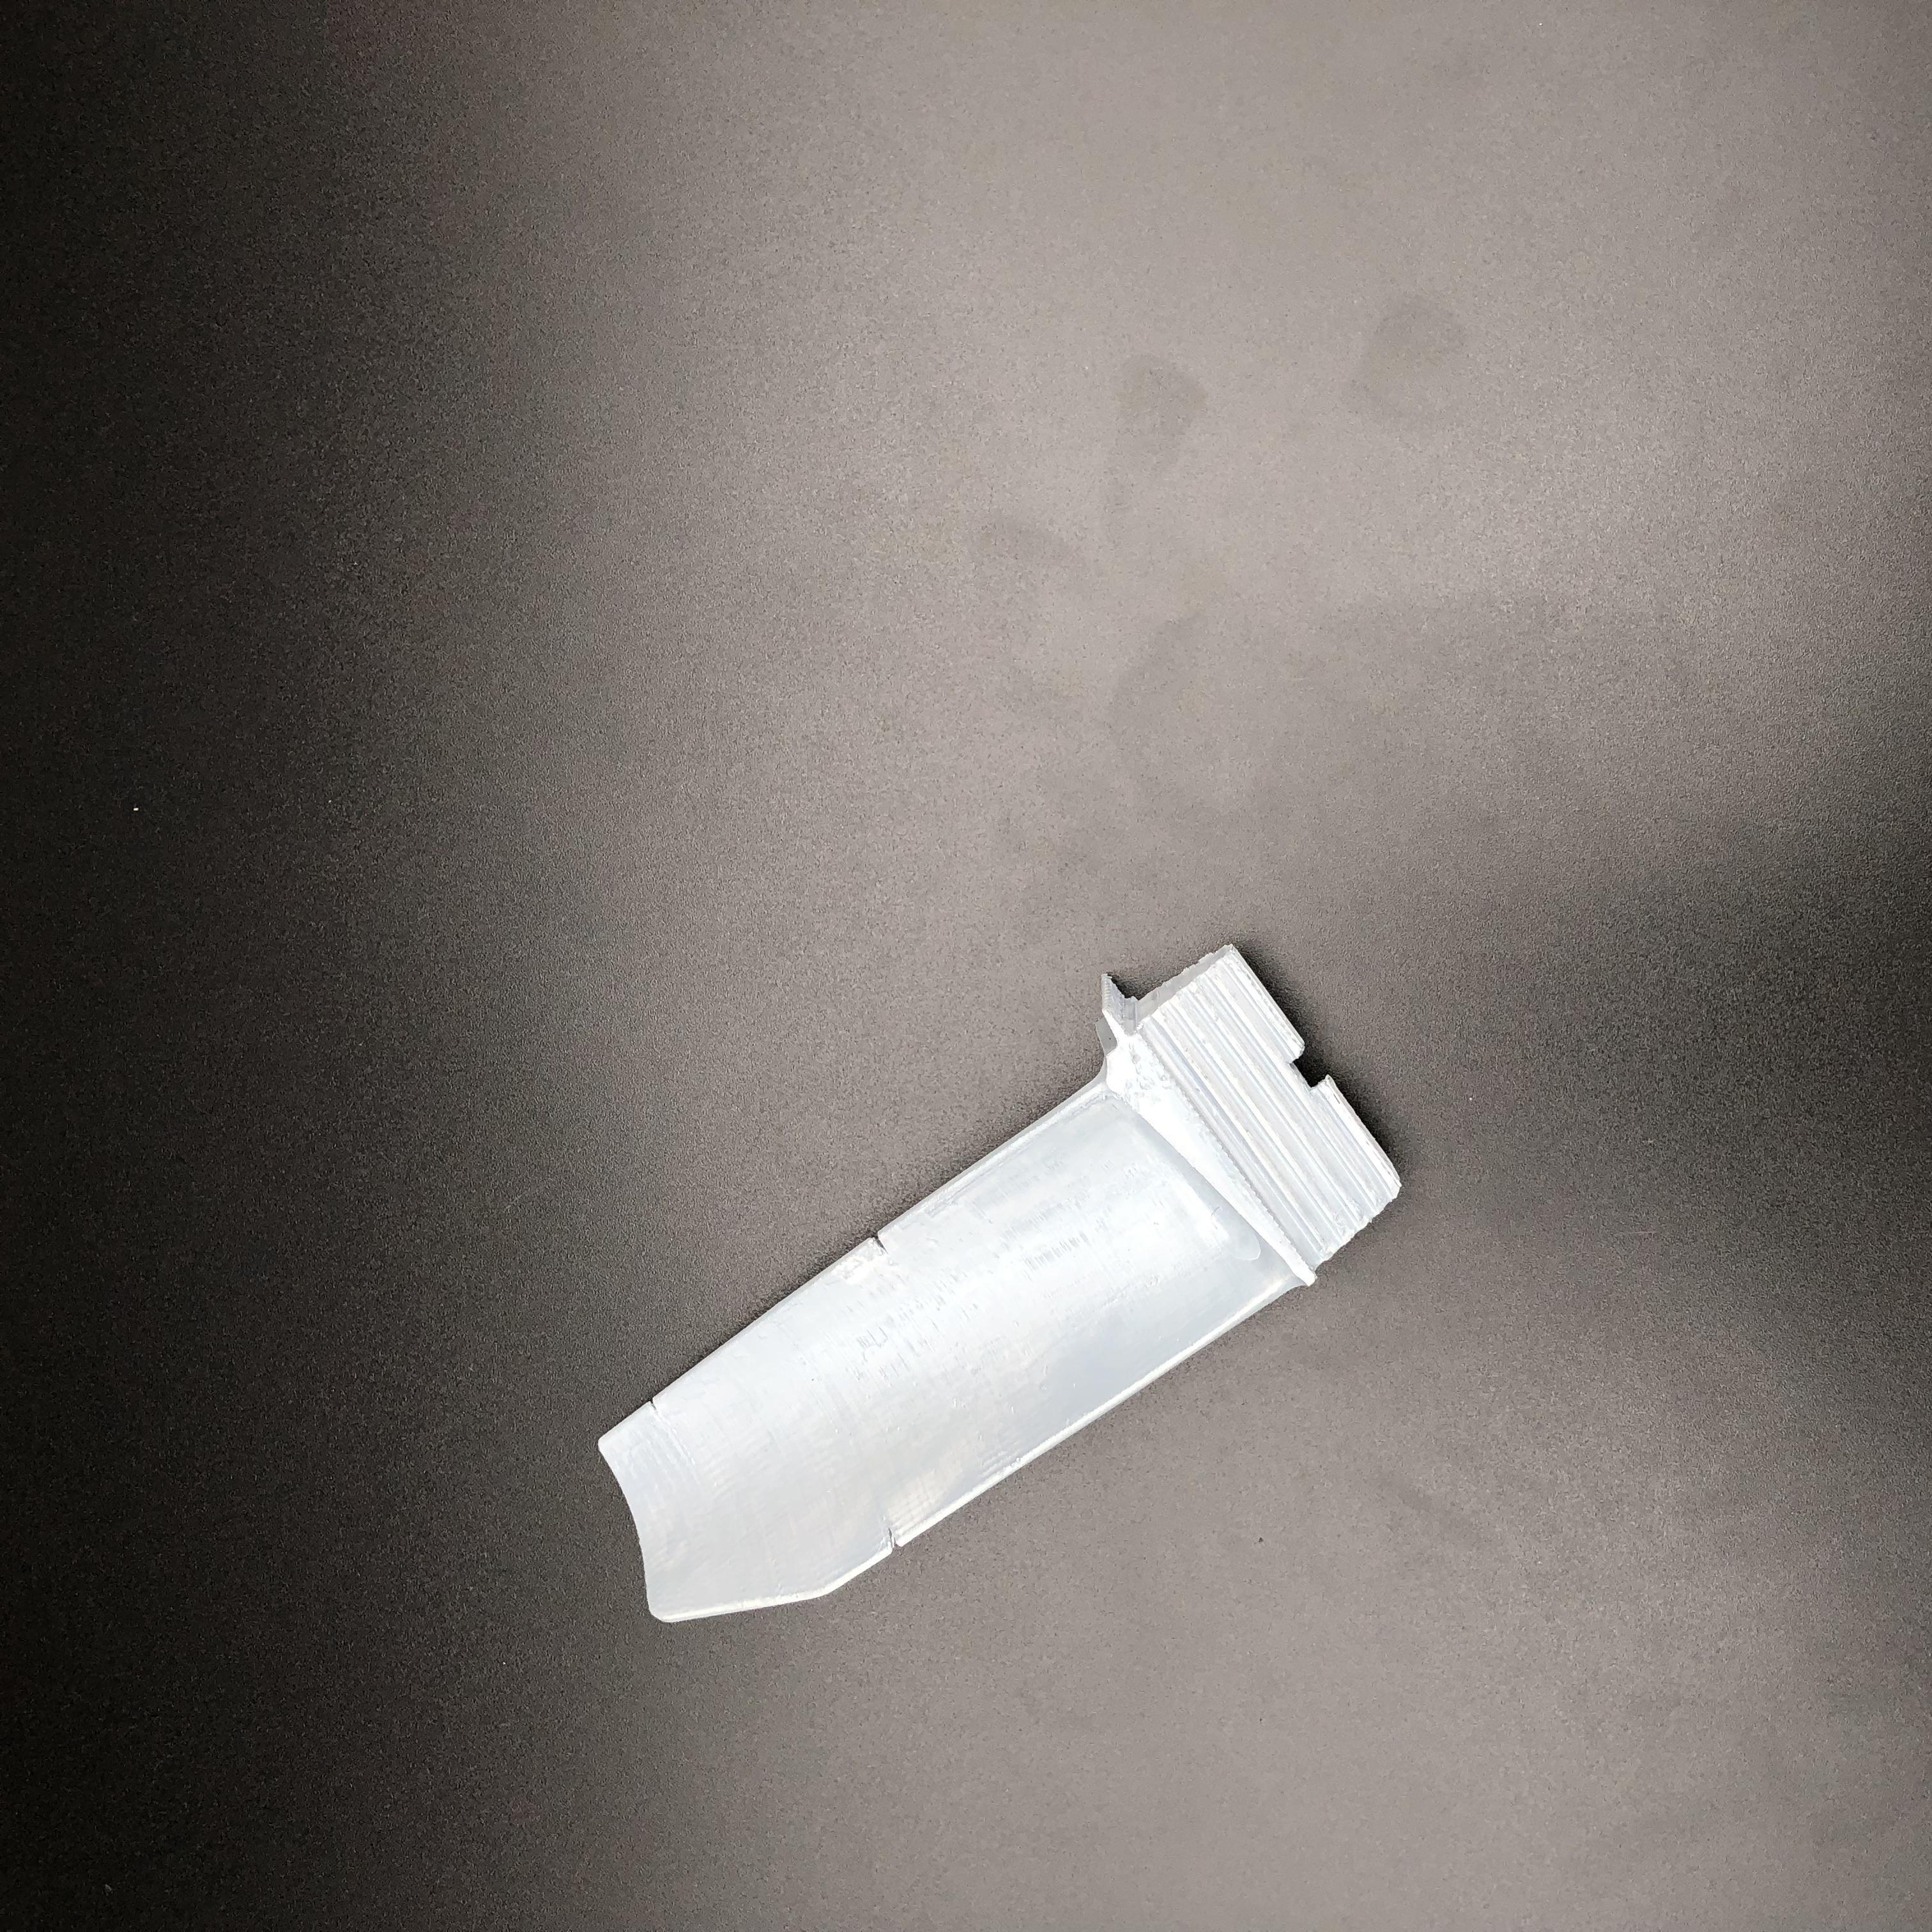groove: (879, 1523, 909, 1555), (867, 1233, 901, 1258), (646, 1392, 667, 1421)
